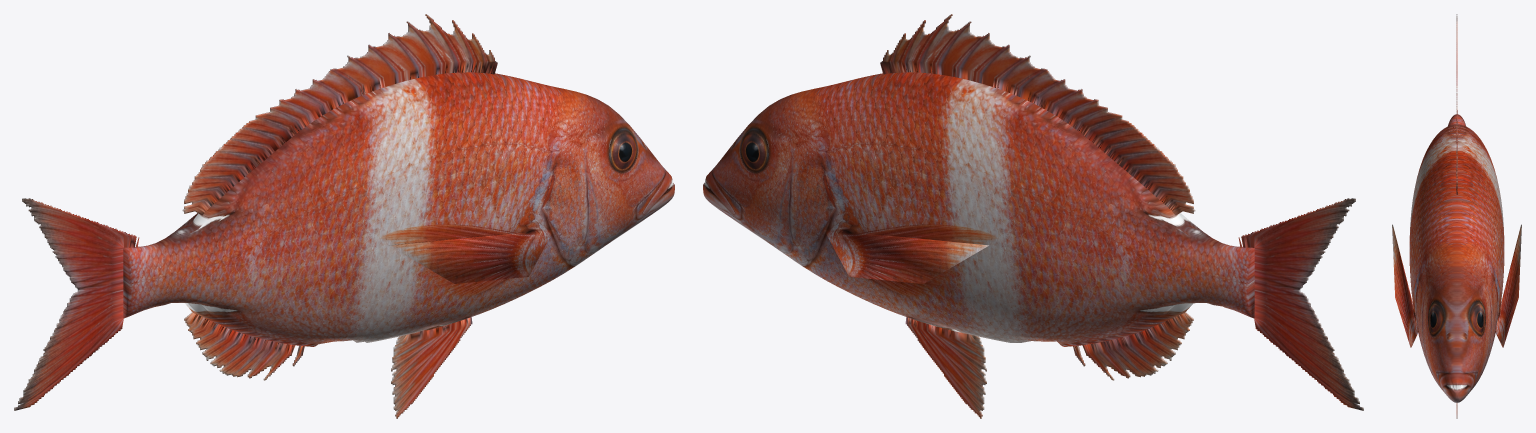
Rendered from roman.glb.
3 renders of one model, left to right at view 1: azimuth 30°, elevation 25°; view 2: azimuth 150°, elevation 25°; view 3: azimuth 270°, elevation 25°, orthographic. The views are drawn at different scales.
Parts seen in each view (by area): view 1: roman_realistic; view 2: roman_realistic; view 3: roman_realistic.
Part boxes in pixels (box(x1,y1,x2,y2)): roman_realistic: box(14, 14, 674, 418); roman_realistic: box(703, 14, 1363, 418); roman_realistic: box(1392, 14, 1521, 418).
Bounding box in the file's own units: 1 × 0.5751 × 0.2082.
3 materials, 3 textured.
